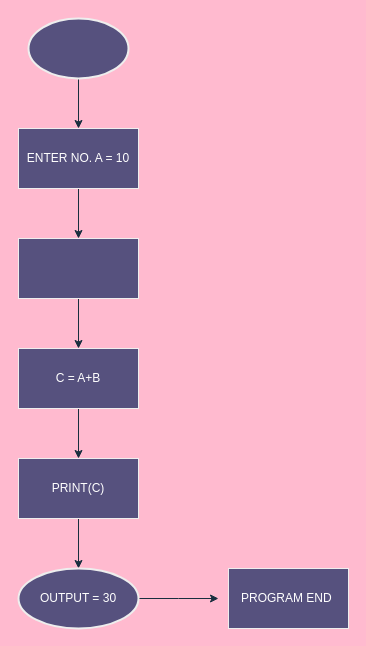
Some shapes in this 366 by 646 pixel diagram are drawn without their labels. The box of each missing label's shape, as (x1, y1, x2, y2) in pixels:
ENTER NO.B = 20: (18, 238, 138, 298)
START: (27, 17, 129, 79)
